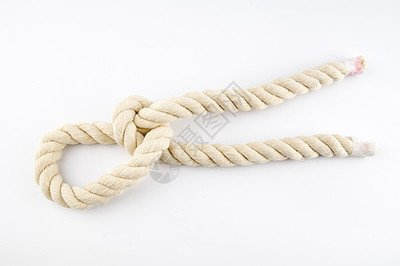9/可回收垃圾/绳子: (33, 54, 378, 211)
